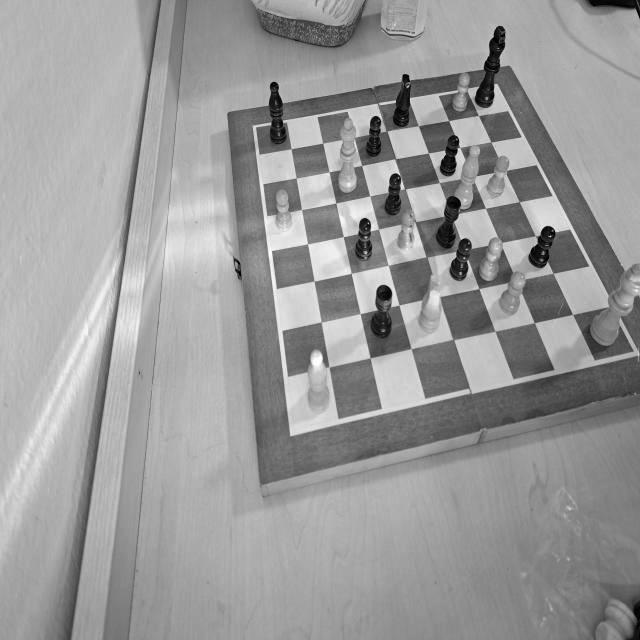chess-table-corners: (282, 418, 305, 443), (248, 120, 264, 138), (627, 342, 640, 361), (488, 81, 504, 95)
